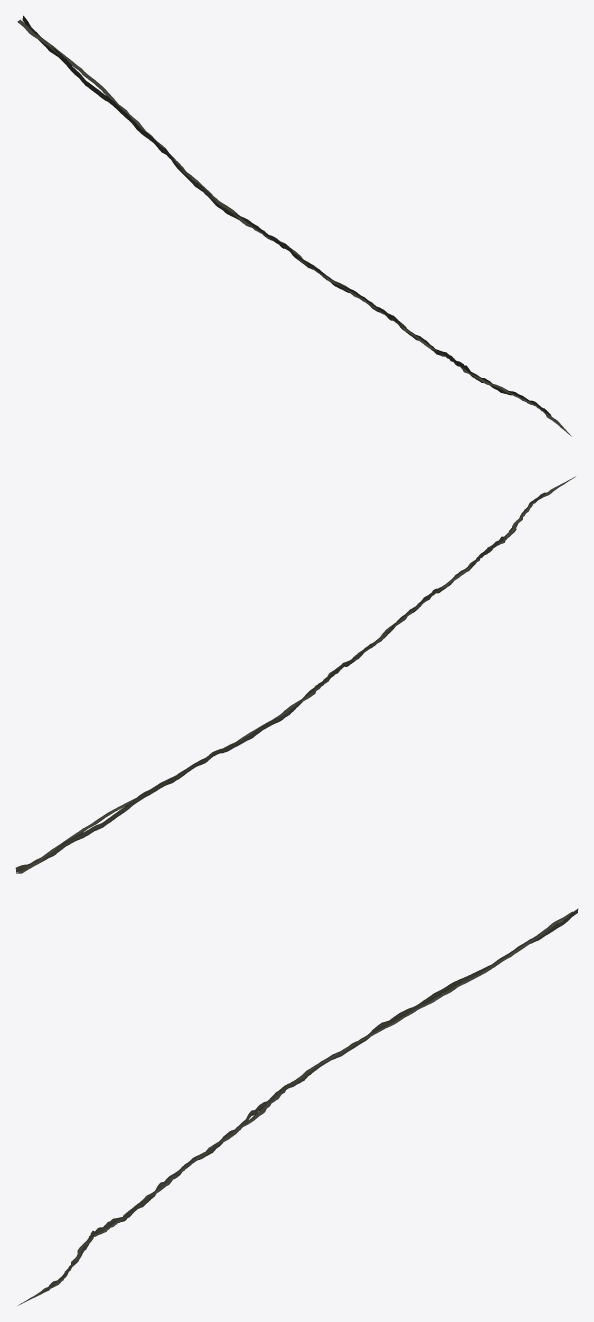
The model's file is FO_UnderBrush_01_Part_05.fbx.
3 views of the same model, one above another, from view 1: azimuth 30°, elevation 25°; view 2: azimuth 150°, elevation 25°; view 3: azimuth 330°, elevation 25° (orthographic). The views are drawn at different scales.
Visible parts, largest first — view 1: FO_UnderBrush_01_Part_05; view 2: FO_UnderBrush_01_Part_05; view 3: FO_UnderBrush_01_Part_05.
Part boxes in pixels (x1=…): FO_UnderBrush_01_Part_05: x1=17, y1=15, x2=571, y2=436; FO_UnderBrush_01_Part_05: x1=15, y1=476, x2=575, y2=873; FO_UnderBrush_01_Part_05: x1=18, y1=908, x2=578, y2=1305.
Bounding box in the file's own units: 0.9363 × 0.3095 × 19.54.
